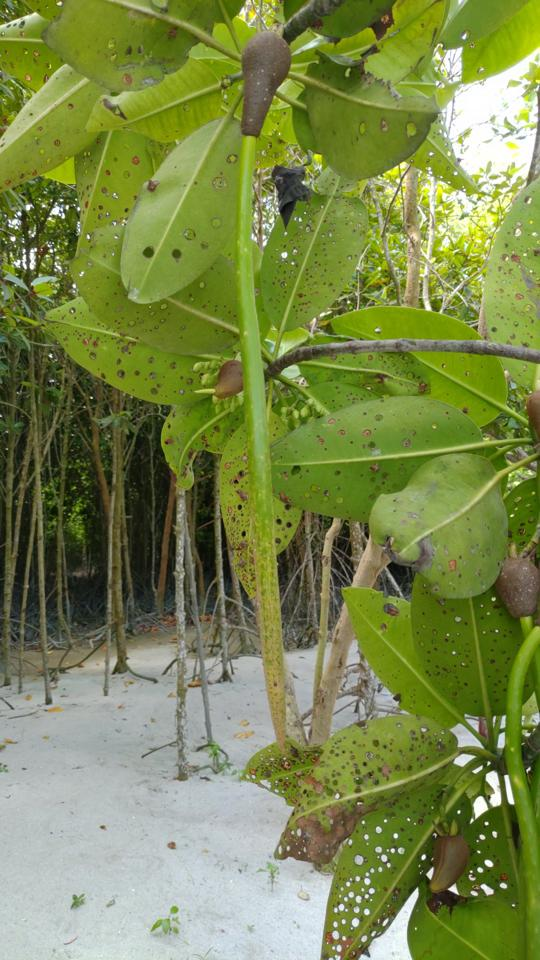mentah: (231, 16, 315, 770)
